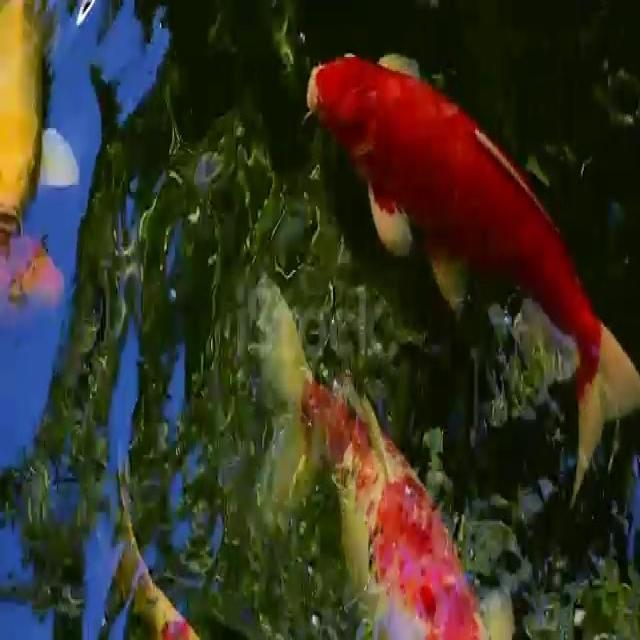fish: (307, 57, 640, 455), (258, 279, 499, 640), (101, 431, 198, 640), (0, 0, 69, 228), (0, 231, 75, 344)
